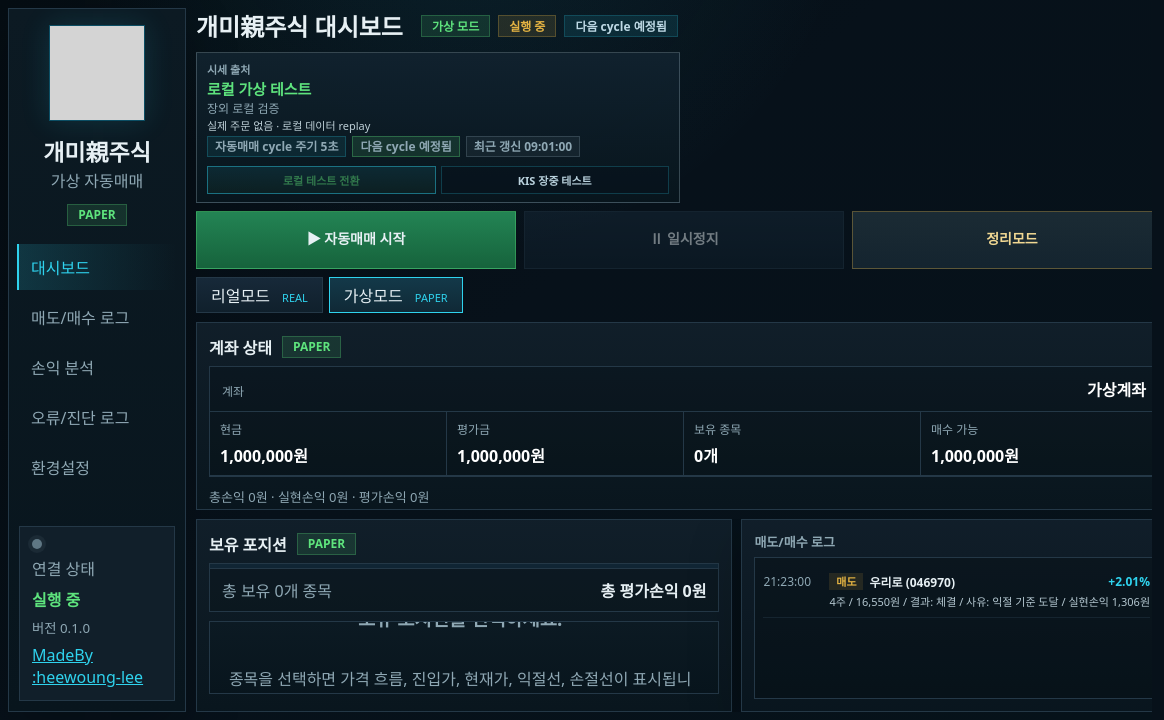
Electron dashboard app shell › keeps the selected trade detail stable when newer logs are prepended
The image size is (1164, 720).
Click the button "매도/매수 로그". click: [97, 317]
box: [17,294,177,340]
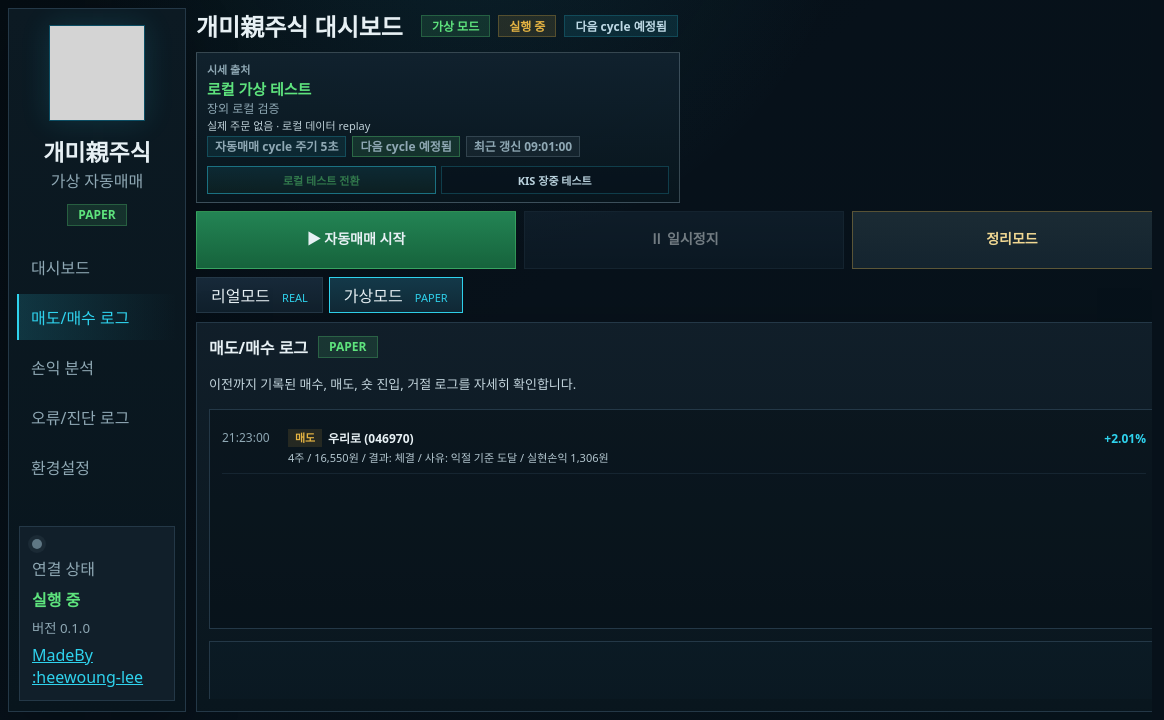
Click the button "우리로 (046970)". click: [246, 438]
box: [222,422,1146,474]
Wait 2500 ms
(page scrolled)
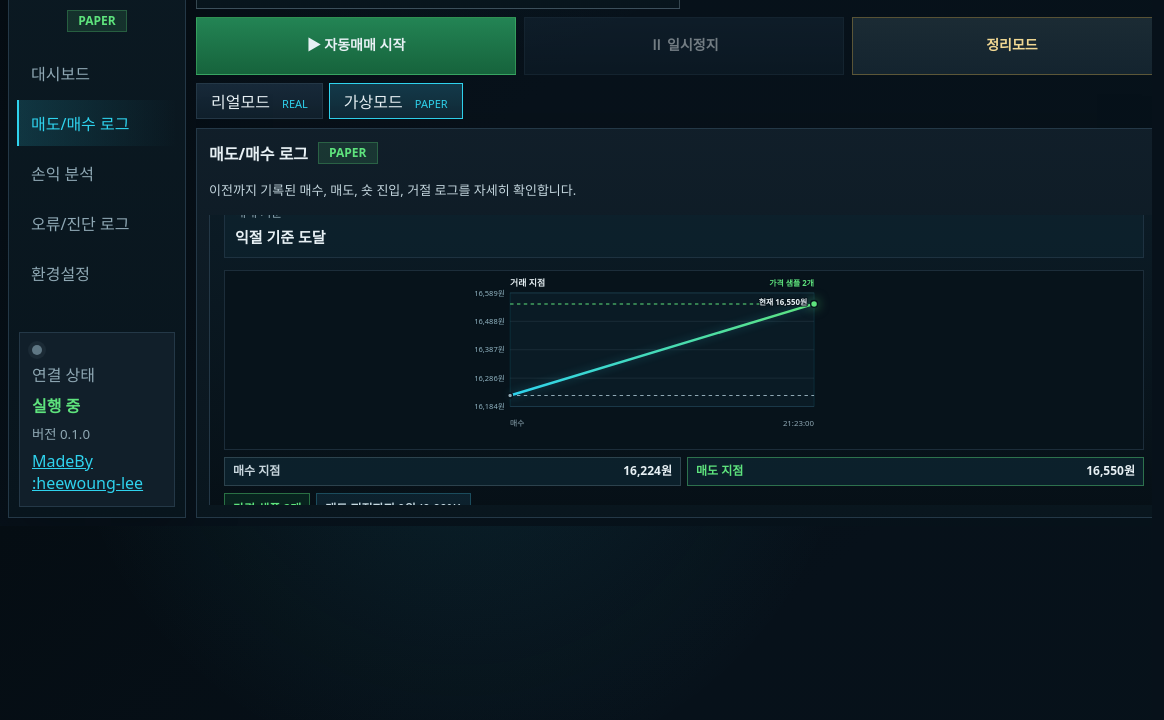
expect the picture named "우리로 거래 지점 그래프" is shown: met, box [224,270,1144,450]
